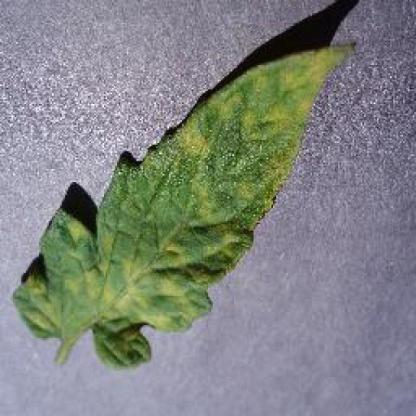Tomato_Leaf_Mold: (16, 41, 351, 343)
